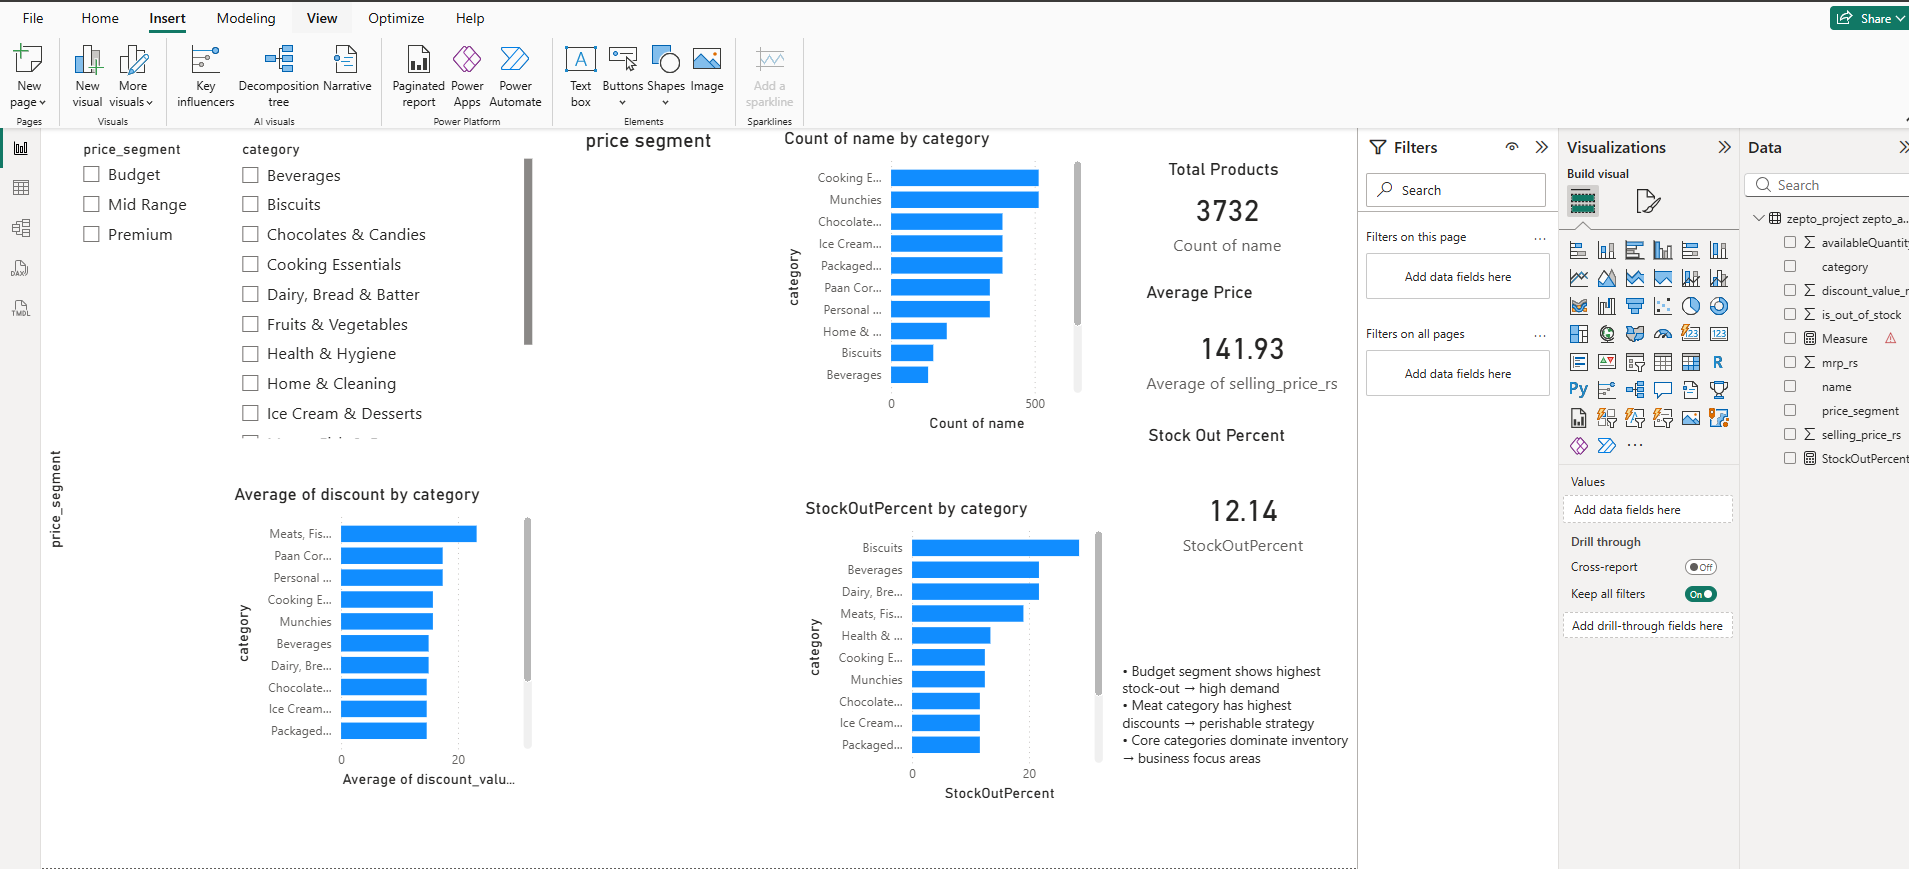

The page's visual inventory and layout, read from the dashboard file:
{"tool":"powerbi","page":{"name":"Page 1","canvas":[1280,720],"ordinal":0},"visuals":[{"type":"barChart","title":"price segment","fields":{"Category":["zepto_project zepto_analysis.price_segment"]},"box":[0,0,1181.8,691.6],"z":0},{"type":"slicer","fields":{"Values":["zepto_project zepto_analysis.category"]},"box":[182.9,6.8,299.6,299.6],"z":1000},{"type":"clusteredBarChart","fields":{"Category":["zepto_project zepto_analysis.category"],"Y":["CountNonNull(zepto_project zepto_analysis.name)"]},"box":[717.8,0,299.6,299.6],"z":2000},{"type":"barChart","fields":{"Category":["zepto_project zepto_analysis.category"],"Y":["zepto_project zepto_analysis.StockOutPercent"]},"box":[738.2,359.9,299.6,299.6],"z":3000},{"type":"barChart","title":"Average of discount by category","fields":{"Category":["zepto_project zepto_analysis.category"],"Y":["Avg(zepto_project zepto_analysis.discount_value_rs)"]},"box":[182.9,346.3,299.6,299.6],"z":4000},{"type":"slicer","fields":{"Values":["zepto_project zepto_analysis.price_segment"]},"box":[28.2,6.8,133.3,121.6],"z":5000},{"type":"card","title":"Total Products","fields":{"Values":["CountNonNull(zepto_project zepto_analysis.name)"]},"box":[1105.9,85.6,125.5,98.2],"z":6000},{"type":"card","title":"Average Price","fields":{"Values":["Avg(zepto_project zepto_analysis.selling_price_rs)"]},"box":[1069.9,204.3,196.5,127.4],"z":7000},{"type":"card","title":"Stock Out Percent","fields":{"Values":["zepto_project zepto_analysis.StockOutPercent"]},"box":[1071.9,331.7,194.5,164.4],"z":8000},{"type":"textbox","box":[1046.6,513.6,233.4,112.8],"z":8001}]}

Visuals, with their boxes on the page's 1280x720 design canvas (x1, y1, x2, y2). These are canvas units, not pixel positions in the 1909x869 screenshot, which may show the page scaled, cropped or inside an application window:
"price segment" barChart: [left=0, top=0, right=1182, bottom=692]
slicer - zepto_project zepto_analysis.category: [left=183, top=7, right=482, bottom=306]
clusteredBarChart - zepto_project zepto_analysis.category x CountNonNull(zepto_project zepto_analysis.name): [left=718, top=0, right=1017, bottom=300]
barChart - zepto_project zepto_analysis.category x zepto_project zepto_analysis.StockOutPercent: [left=738, top=360, right=1038, bottom=660]
"Average of discount by category" barChart: [left=183, top=346, right=482, bottom=646]
slicer - zepto_project zepto_analysis.price_segment: [left=28, top=7, right=162, bottom=128]
"Total Products" card: [left=1106, top=86, right=1231, bottom=184]
"Average Price" card: [left=1070, top=204, right=1266, bottom=332]
"Stock Out Percent" card: [left=1072, top=332, right=1266, bottom=496]
textbox: [left=1047, top=514, right=1280, bottom=626]
